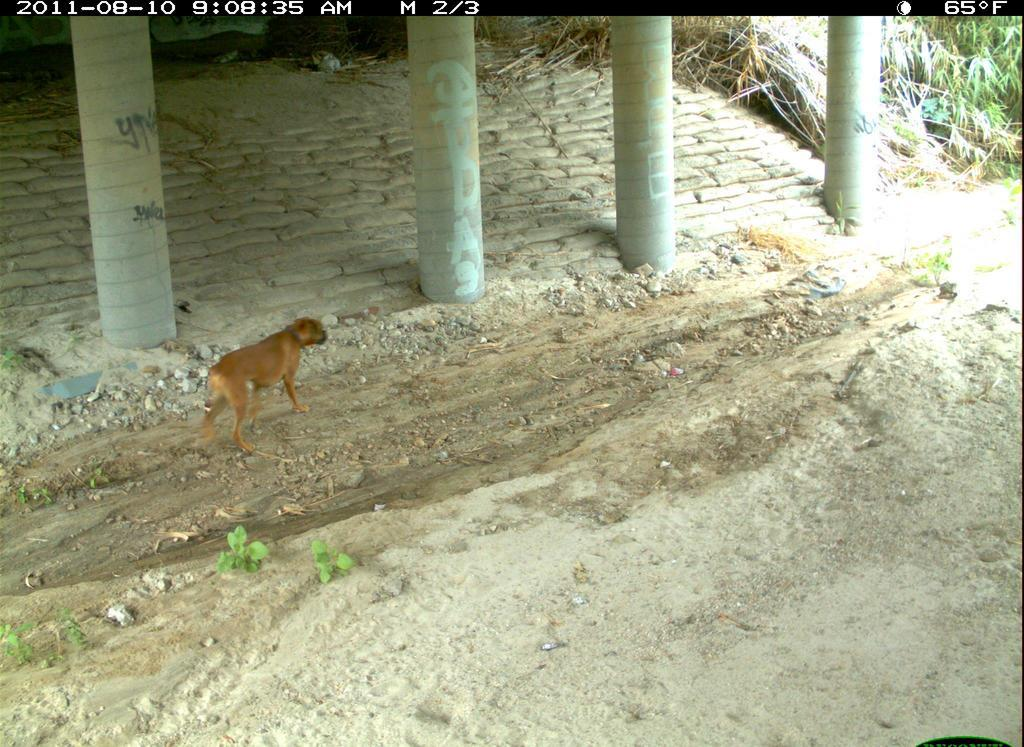dog: (398, 625, 664, 747)
